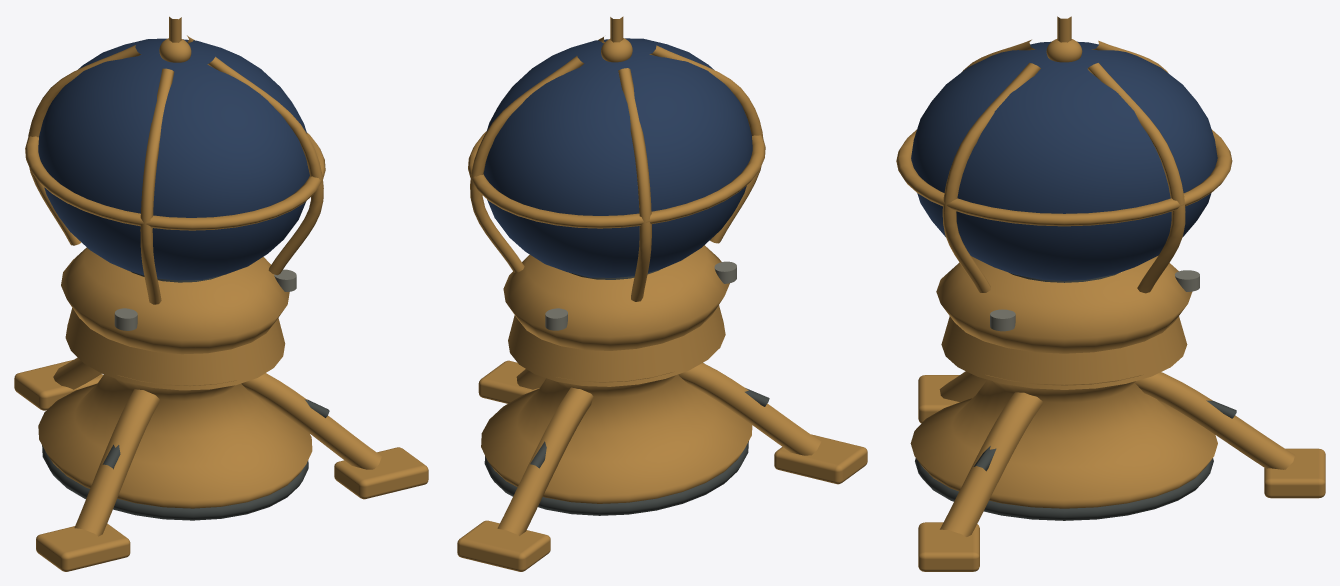
The model's file is extra_crystal_orb.glb.
The picture shows the model from 3 angles, left to right: view 1: azimuth 30°, elevation 25°; view 2: azimuth 150°, elevation 25°; view 3: azimuth 270°, elevation 25°; orthographic projection. The views are drawn at different scales.
Bounding box in the file's own units: 1 × 1.2 × 1.
